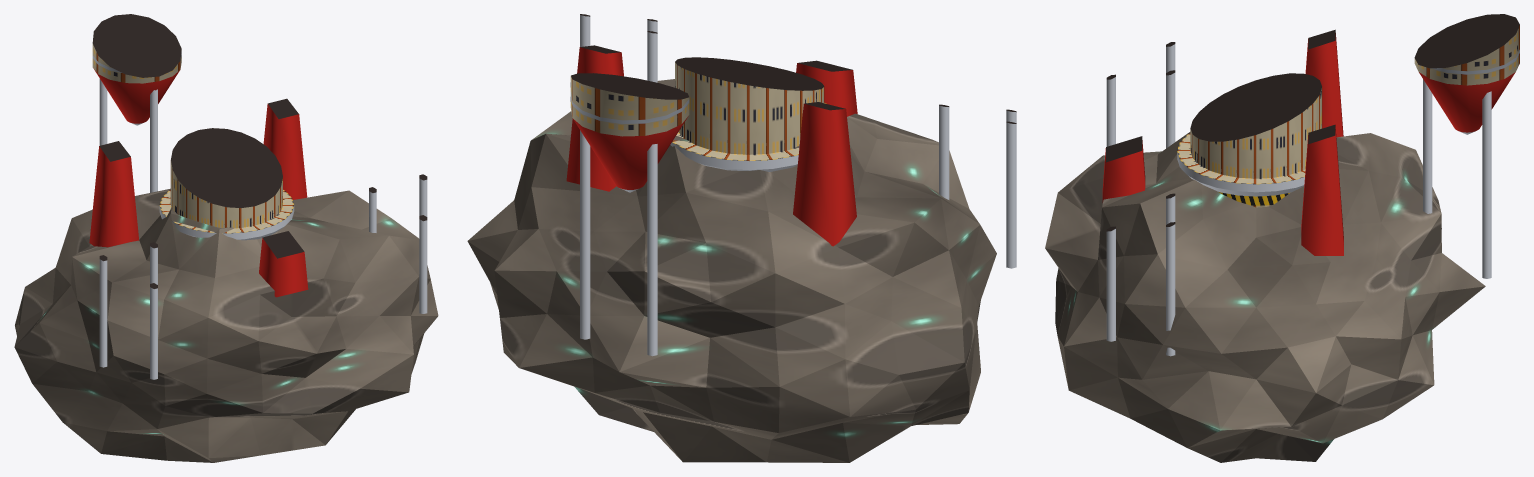
File: mining_facility_debris2.obj
3 views of the same model, side by side, from view 1: azimuth 30°, elevation 25°; view 2: azimuth 150°, elevation 25°; view 3: azimuth 270°, elevation 25° (orthographic). The views are drawn at different scales.
Visible parts, largest first — view 1: rock, tower, derrick, hopper, leg; view 2: rock, tower, derrick, hopper, leg; view 3: rock, tower, derrick, hopper, leg.
Part boxes in pixels (x1,y1,x2,y2): rock: (14, 188, 438, 462); tower: (159, 128, 294, 240); derrick: (89, 98, 308, 297); hopper: (92, 14, 181, 125); leg: (99, 78, 427, 379); rock: (467, 79, 996, 462); tower: (670, 57, 826, 171); derrick: (566, 45, 857, 246); hopper: (570, 73, 689, 192); leg: (580, 14, 1016, 356); rock: (1045, 132, 1485, 462); tower: (1177, 73, 1322, 207); derrick: (1102, 29, 1343, 255); hopper: (1414, 14, 1519, 134); leg: (1106, 42, 1491, 356).
Bounding box in the file's own units: 115 × 101 × 108.
5 materials, 2 textured.
